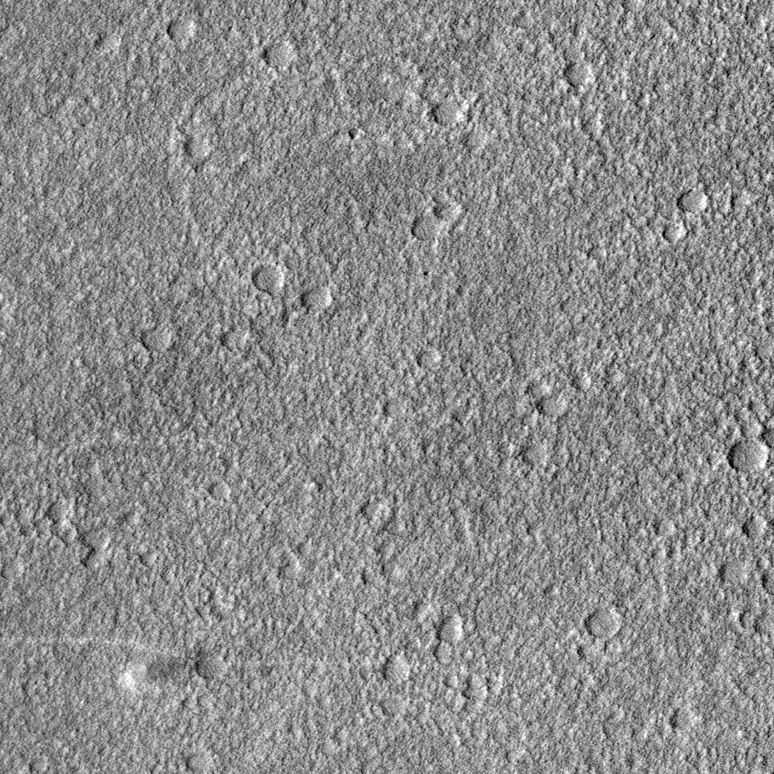dust_devil: (122, 650, 205, 695)
